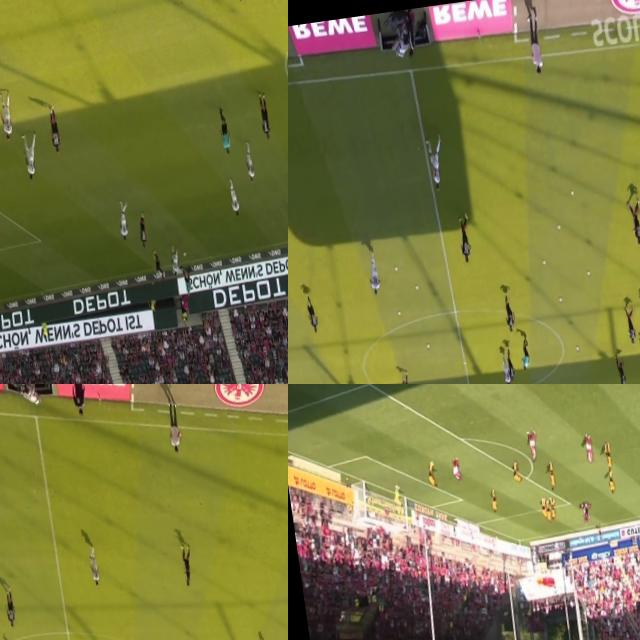ball: (414, 280, 420, 292), (182, 250, 188, 260), (542, 256, 547, 268), (426, 341, 431, 350), (557, 222, 562, 230), (559, 296, 564, 304), (576, 344, 580, 354), (394, 266, 399, 274), (398, 312, 404, 318), (580, 504, 584, 511), (588, 272, 592, 278), (572, 191, 576, 196)
player: (425, 132, 449, 190), (19, 134, 43, 190), (178, 534, 198, 590), (0, 95, 18, 143), (457, 215, 475, 262), (257, 98, 275, 144), (47, 110, 64, 158), (114, 200, 132, 243), (224, 179, 242, 220), (243, 142, 259, 186), (502, 288, 518, 332), (367, 248, 382, 294), (86, 544, 101, 585), (628, 195, 640, 246), (306, 292, 320, 335), (167, 245, 184, 280), (136, 212, 150, 254), (2, 590, 16, 631), (526, 429, 542, 464), (151, 248, 166, 282), (504, 343, 517, 382), (624, 304, 636, 345), (500, 349, 513, 384), (546, 462, 559, 496), (601, 442, 615, 473), (426, 460, 440, 490), (391, 486, 406, 513), (584, 436, 596, 467), (615, 354, 626, 384), (448, 459, 461, 484), (509, 461, 523, 484), (606, 470, 617, 496), (490, 486, 500, 513), (399, 369, 412, 384), (581, 502, 591, 518), (546, 502, 552, 522), (551, 502, 557, 520), (541, 500, 547, 518)
